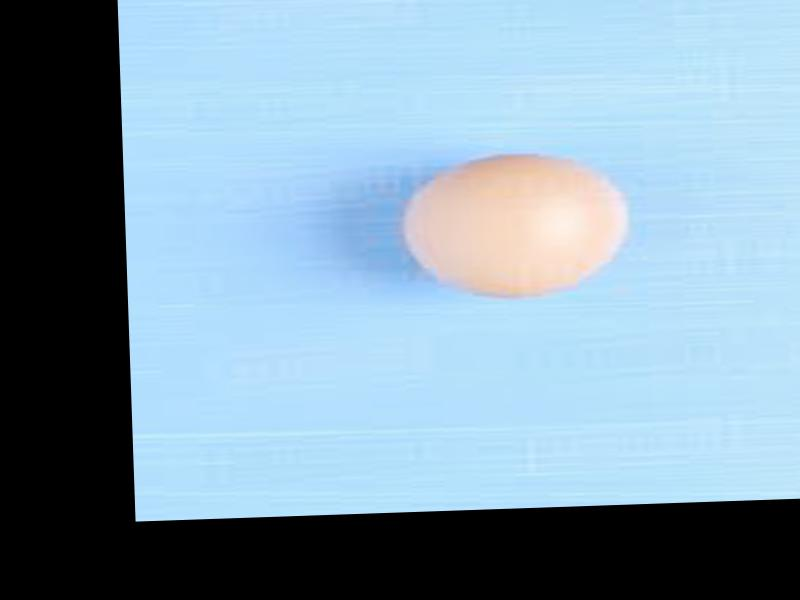Eggs: (393, 151, 634, 301)
